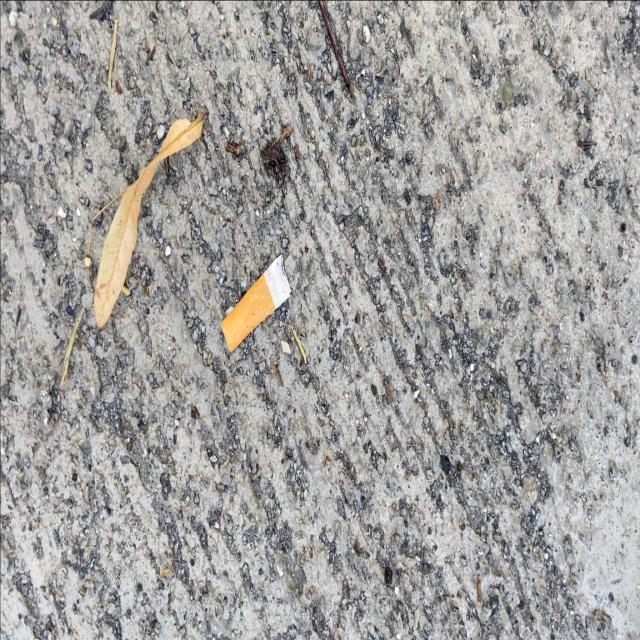other waste: (220, 253, 292, 353)
